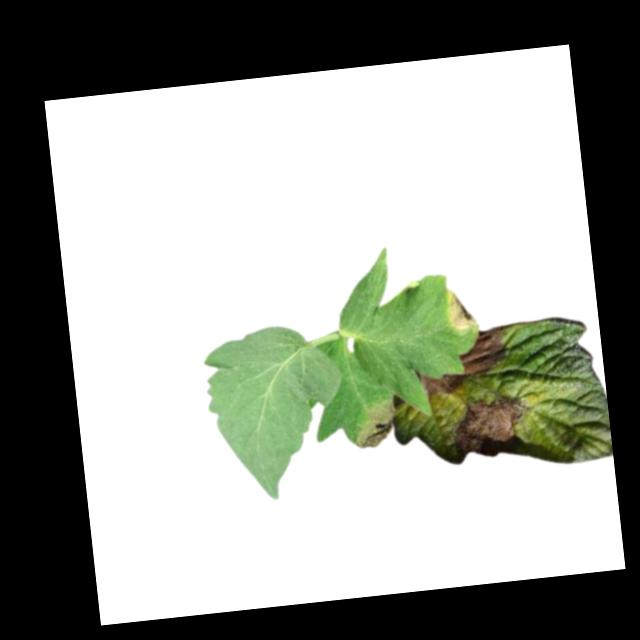Late_blight: (450, 394, 535, 462), (349, 395, 399, 454), (458, 328, 514, 377), (443, 286, 479, 333), (418, 369, 464, 398)
